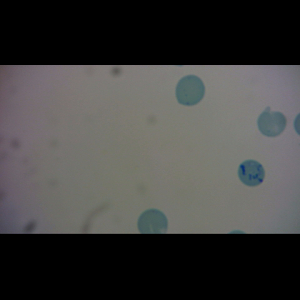aggregate reticulocyte: (237, 159, 267, 188)
erythrocyte: (256, 106, 289, 138), (136, 208, 168, 234)
punctate reticulocyte: (175, 74, 206, 107)
